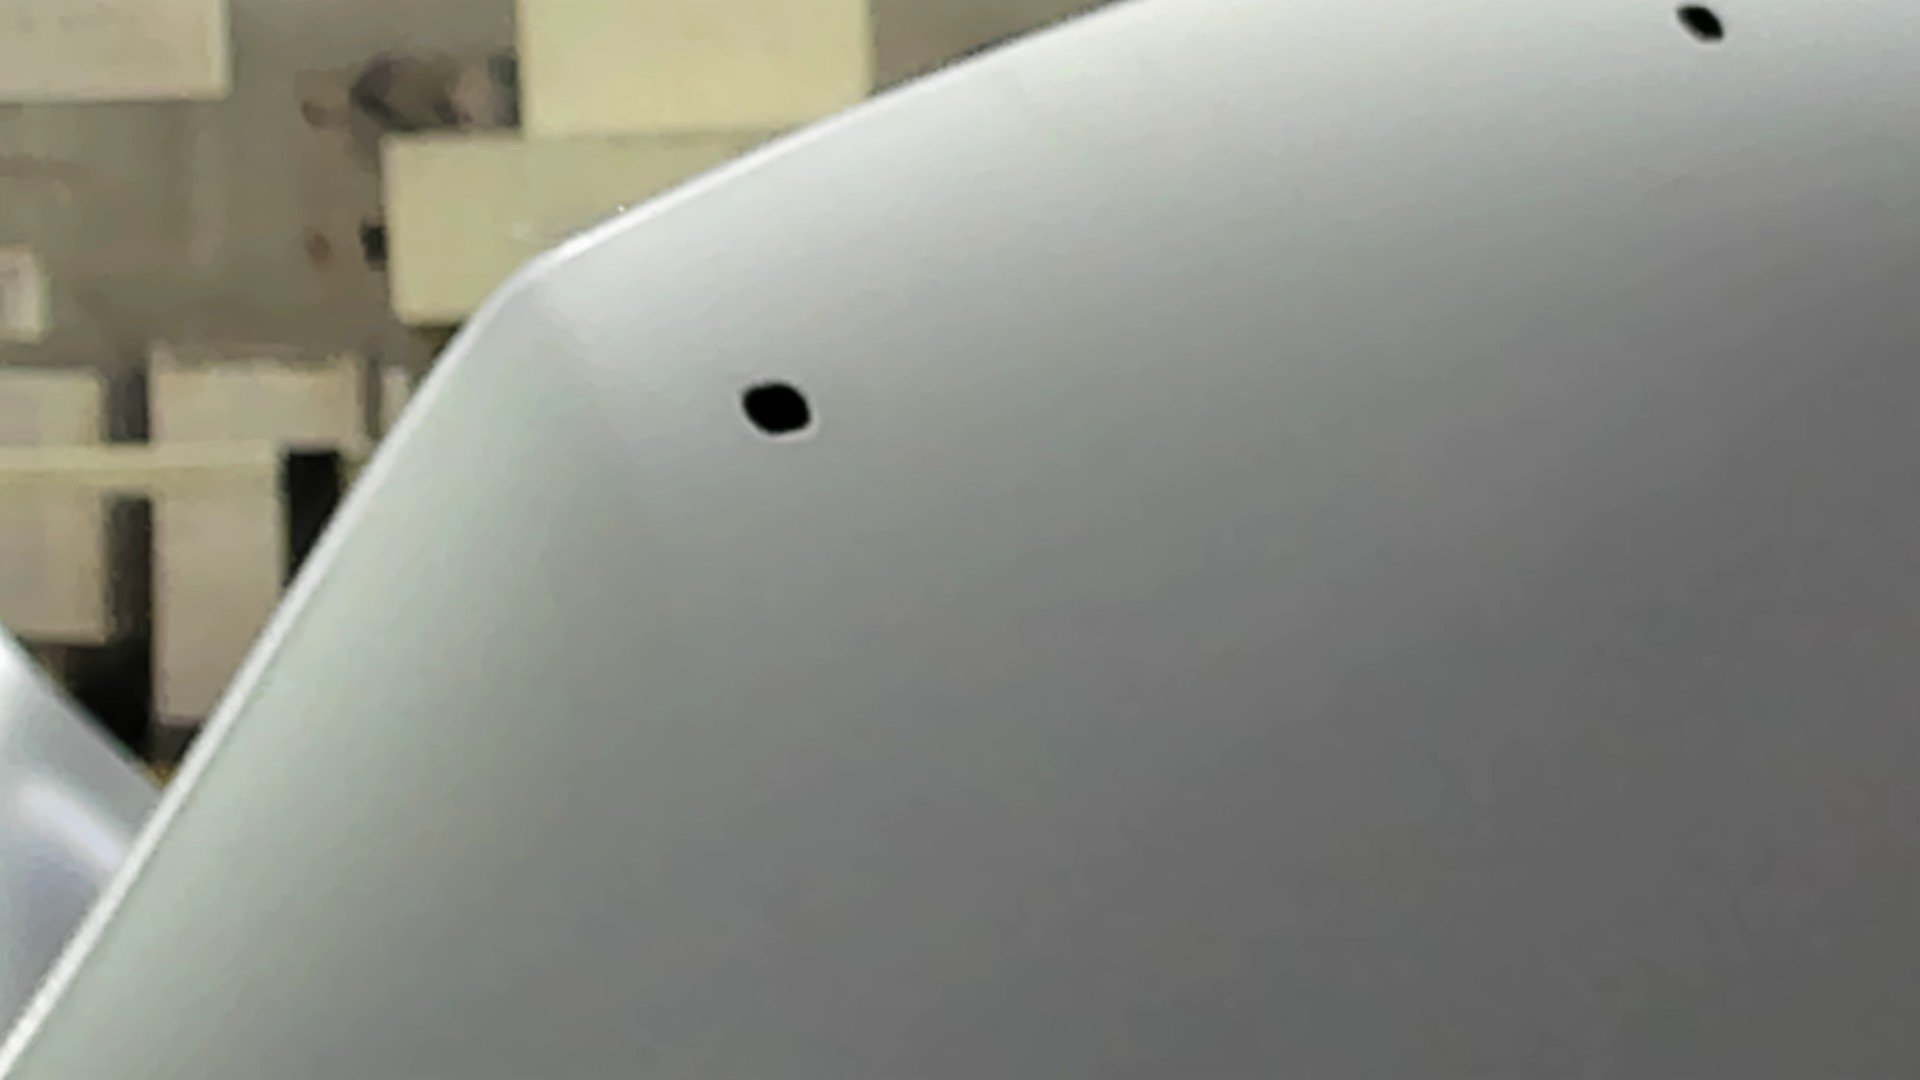amorfo: (733, 377, 820, 444), (1669, 1, 1730, 53)
capo: (878, 124, 1920, 1080)
